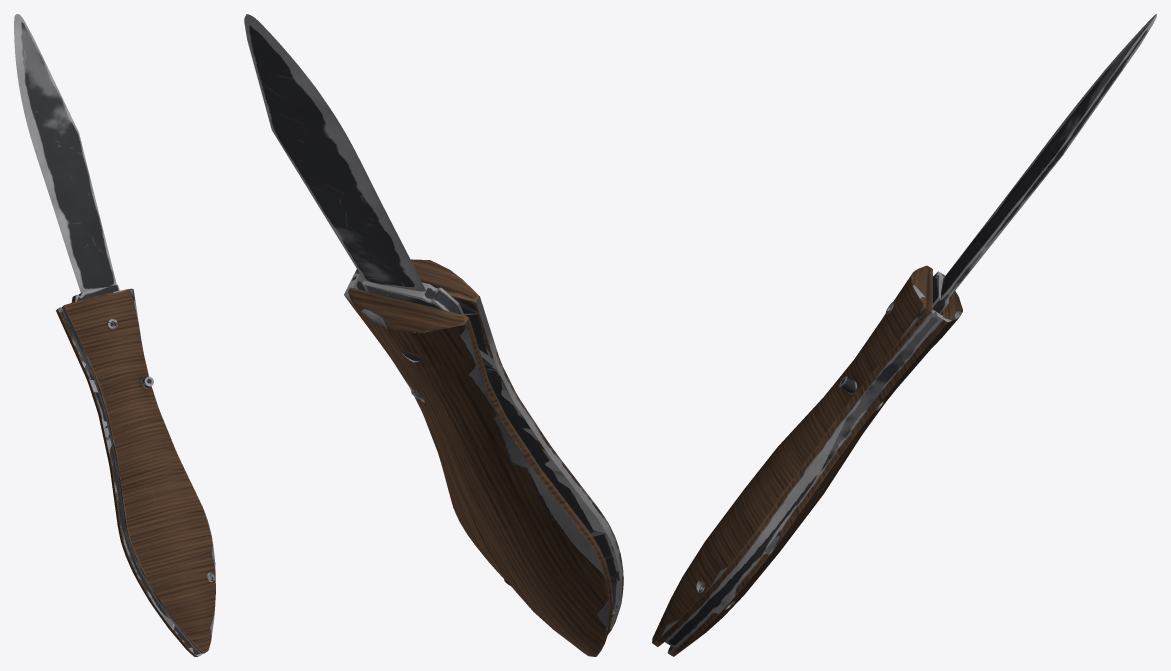
The model's file is knife_ph.glb.
The picture shows the model from 3 angles, left to right: view 1: azimuth 30°, elevation 25°; view 2: azimuth 150°, elevation 25°; view 3: azimuth 270°, elevation 25°; orthographic projection. The views are drawn at different scales.
Parts seen in each view (by area): view 1: fish_knife_handle, fish_knife_blade; view 2: fish_knife_handle, fish_knife_blade; view 3: fish_knife_handle, fish_knife_blade.
Part boxes in pixels (x1,y1,x2,y2): fish_knife_handle: (56,288,215,656); fish_knife_blade: (14,14,119,302); fish_knife_handle: (344,259,623,656); fish_knife_blade: (244,14,464,314); fish_knife_handle: (652,265,962,656); fish_knife_blade: (933,14,1156,314).
Bounding box in the file's own units: 0.0436 × 0.2678 × 0.1896.
1 material, 1 textured.
